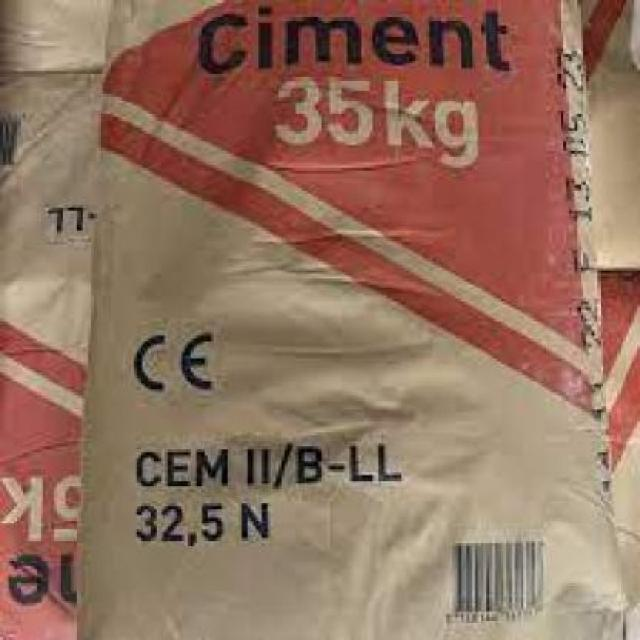gunny_bag: (74, 0, 627, 640), (0, 71, 101, 635), (578, 2, 637, 269), (596, 267, 640, 615), (3, 0, 109, 68)
